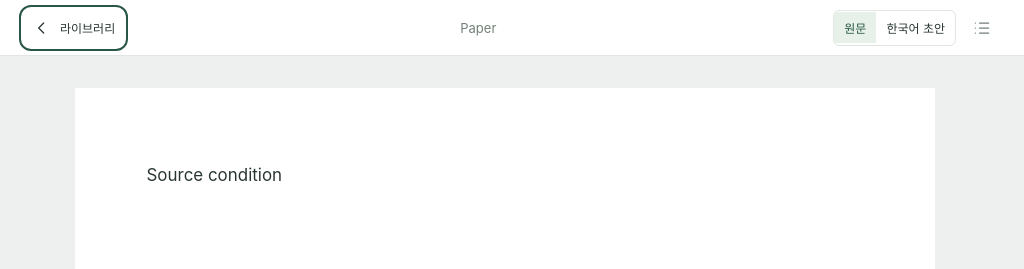
Test: rejects a translation from another view and keeps source recovery available
Click the button "한국어 초안": (916, 28) 876,12 -> 955,43
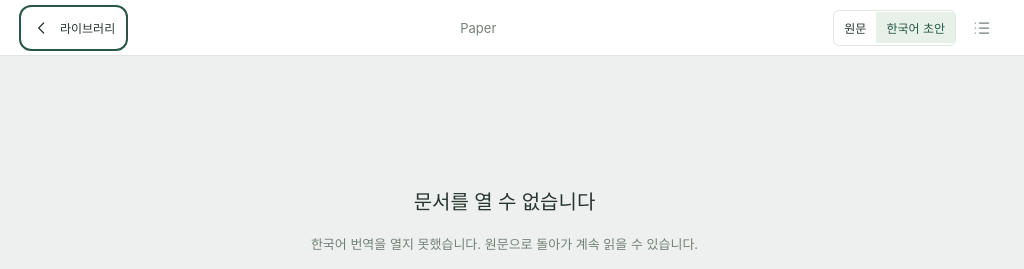
Check: the message shows "원문으로 돌아가", box 311,236 -> 698,252
Click the button "원문": (855, 28) 834,12 -> 876,43
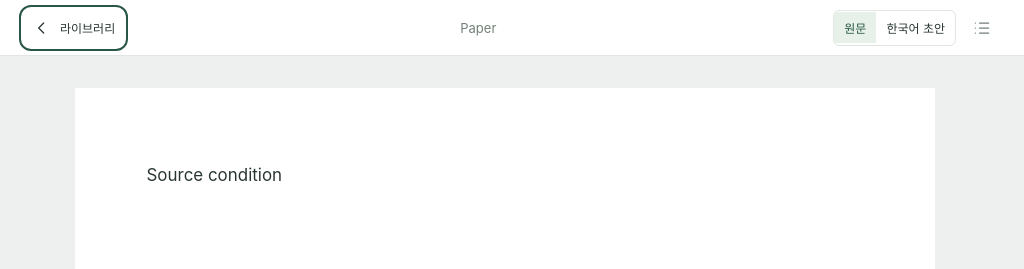
Check: the text "Source condition" is shown, box 146,165 -> 282,185
